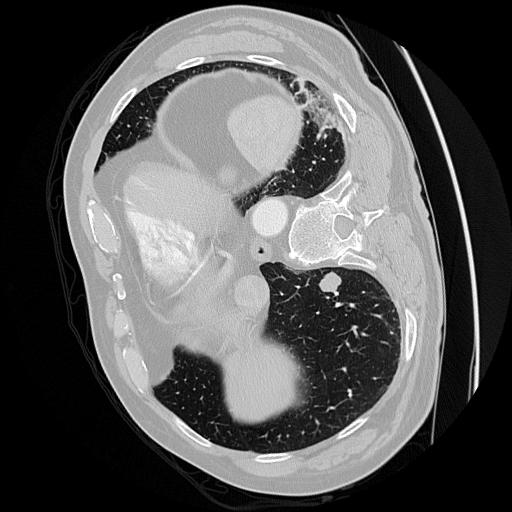nodule: (315, 268, 346, 299)
